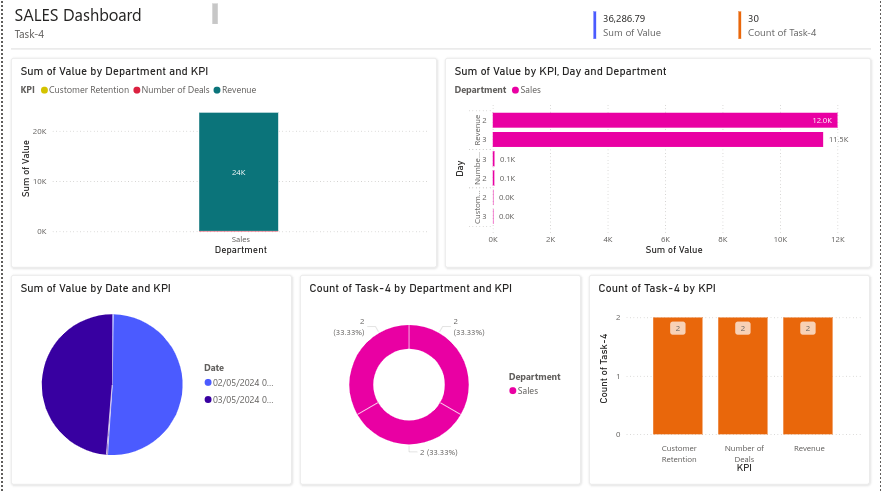

The dashboard page shown, as its layout file describes it:
{"tool":"powerbi","page":{"name":"Sales","canvas":[1280,720],"ordinal":2},"visuals":[{"type":"shape","box":[12,58,1256,26],"z":0},{"type":"shape","box":[12,84,622,306],"z":1000},{"type":"shape","box":[646,84,622,306],"z":2000},{"type":"shape","box":[12,402,410,306],"z":3000},{"type":"shape","box":[434,402,410,306],"z":4000},{"type":"shape","box":[856,402,410,306],"z":5000},{"type":"lineClusteredColumnComboChart","fields":{"Category":["Task-4.KPI"],"Y":["Count(Task-4)"]},"box":[864,414,394,282],"z":6000},{"type":"donutChart","fields":{"Category":["Task-4.Department"],"Y":["Count(Task-4)"],"Series":["Task-4.KPI"]},"box":[442,414,394,282],"z":7000},{"type":"pieChart","fields":{"Category":["Task-4.Date"],"Y":["Sum(Task-4.Value)"],"Series":["Task-4.KPI"]},"box":[20,414,394,282],"z":8000},{"type":"clusteredBarChart","fields":{"Category":["Task-4.KPI","Task-4.Date.Variation.Date Hierarchy.Day"],"Y":["Sum(Task-4.Value)"],"Series":["Task-4.Department"]},"box":[654,96,606,282],"z":9000},{"type":"columnChart","fields":{"Category":["Task-4.Department"],"Y":["Sum(Task-4.Value)"],"Series":["Task-4.KPI"]},"box":[20,96,606,282],"z":10000},{"type":"multiRowCard","fields":{"Values":["Count(Task-4)"]},"box":[1069,12,199,50],"z":11000},{"type":"multiRowCard","fields":{"Values":["Sum(Task-4.Value)"]},"box":[858,12,199,50],"z":12000},{"type":"textbox","box":[12,33,306,32],"z":13000},{"type":"textbox","box":[11.7,0,306.7,40.9],"z":14000}]}

Visuals, with their boxes in screenshot pixels (x1, y1, x2, y2), scaled from the page's 1280x720 canvas onto the 881x493 screenshot:
shape: 8 40 873 58
shape: 8 58 436 267
shape: 445 58 873 267
shape: 8 275 290 485
shape: 299 275 581 485
shape: 589 275 871 485
lineClusteredColumnComboChart - Task-4.KPI x Count(Task-4): 595 283 866 477
donutChart - Task-4.Department x Count(Task-4): 304 283 575 477
pieChart - Task-4.Date x Sum(Task-4.Value): 14 283 285 477
clusteredBarChart - Task-4.KPI x Task-4.Date.Variation.Date Hierarchy.Day: 450 66 867 259
columnChart - Task-4.Department x Sum(Task-4.Value): 14 66 431 259
multiRowCard - Count(Task-4): 736 8 873 42
multiRowCard - Sum(Task-4.Value): 591 8 728 42
textbox: 8 23 219 45
textbox: 8 0 219 28
